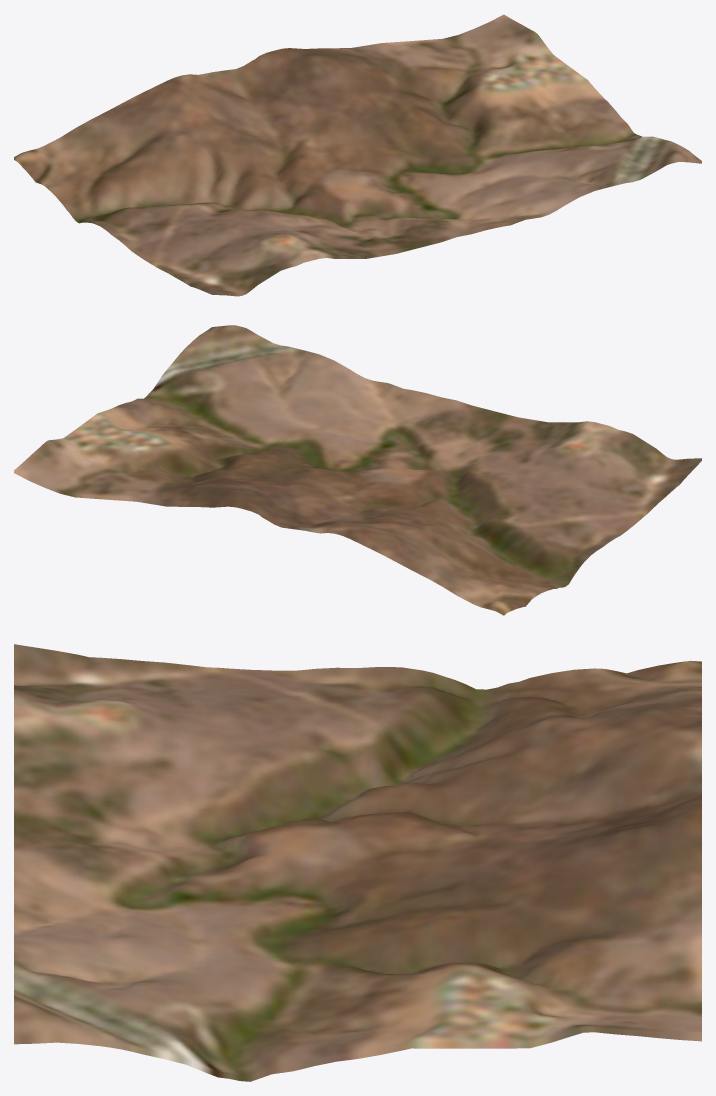
File: terrain_r5_c1_lod1.glb
The picture shows the model from 3 angles, top to bottom: view 1: azimuth 30°, elevation 25°; view 2: azimuth 150°, elevation 25°; view 3: azimuth 270°, elevation 25°; orthographic projection. The views are drawn at different scales.
Visible parts, largest first — view 1: terrain_r5_c1_lod1; view 2: terrain_r5_c1_lod1; view 3: terrain_r5_c1_lod1.
Part boxes in pixels (left/top/right/bottom): terrain_r5_c1_lod1: left=14, top=14, right=701, bottom=296; terrain_r5_c1_lod1: left=14, top=325, right=701, bottom=615; terrain_r5_c1_lod1: left=14, top=644, right=701, bottom=1081.
Bounding box in the file's own units: 1125 × 136 × 787.
Materials: 1 (1 with a texture image).
